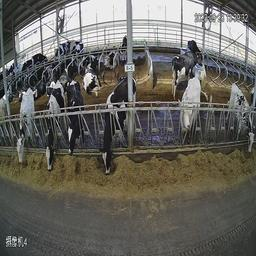cow: (99, 75, 141, 169), (176, 79, 214, 154), (13, 89, 40, 174), (64, 80, 89, 162), (227, 83, 251, 167), (44, 80, 63, 172), (166, 44, 203, 81), (30, 66, 52, 104), (85, 52, 103, 96), (102, 40, 121, 72), (118, 32, 126, 67)
